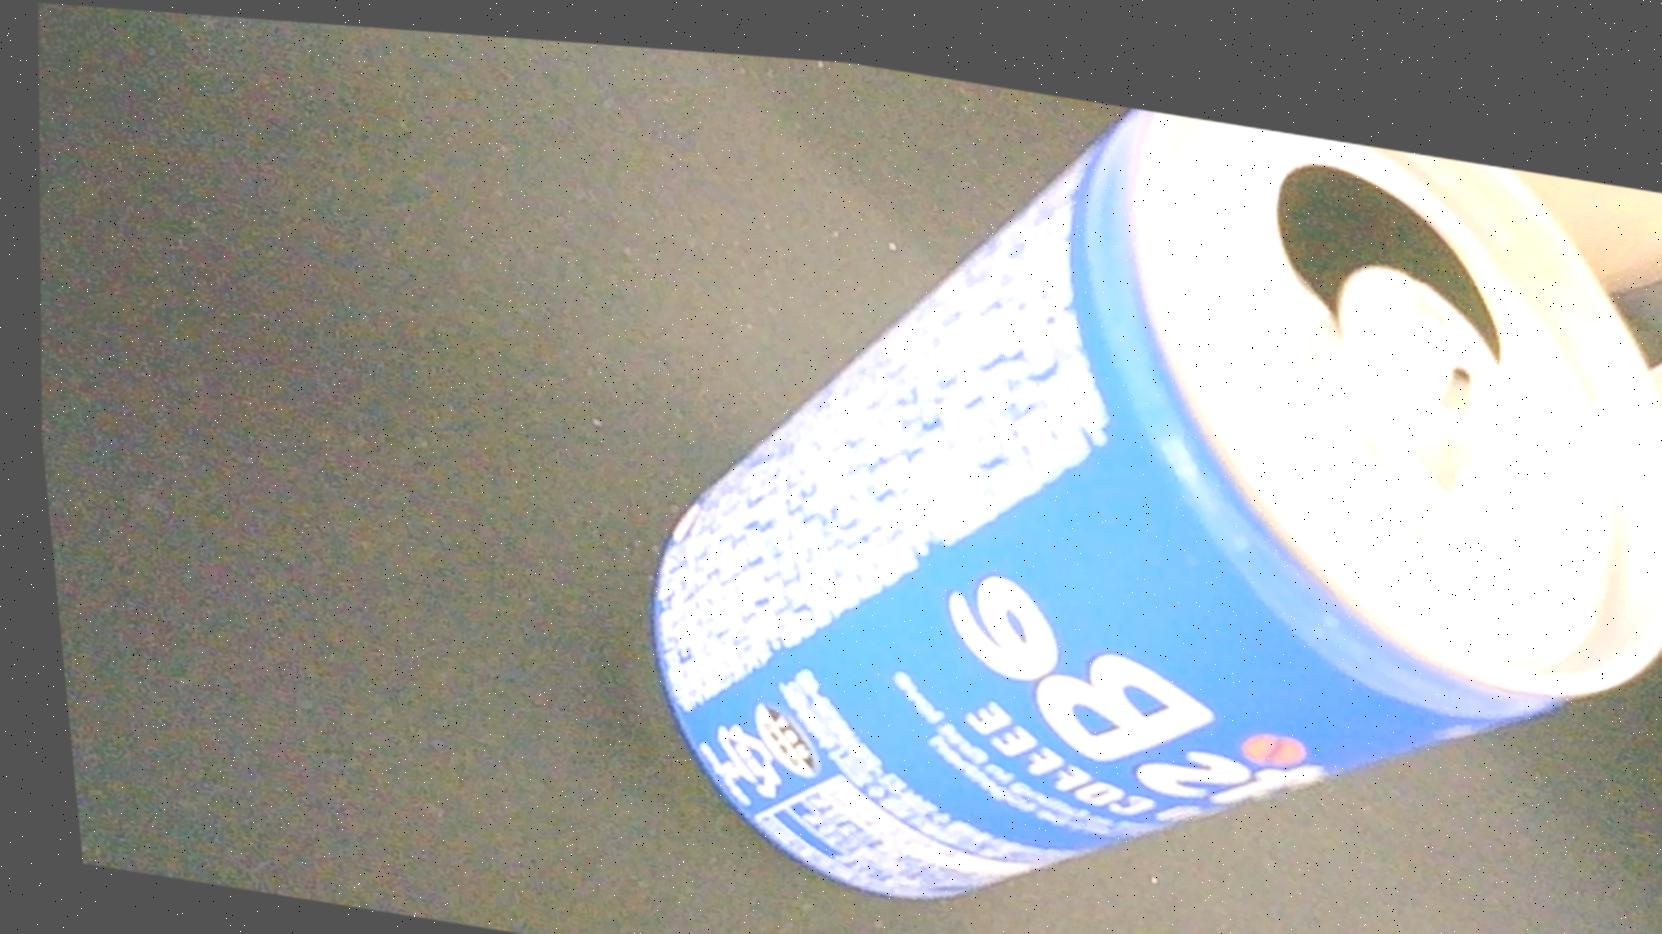letsbe: (574, 33, 1662, 934)
